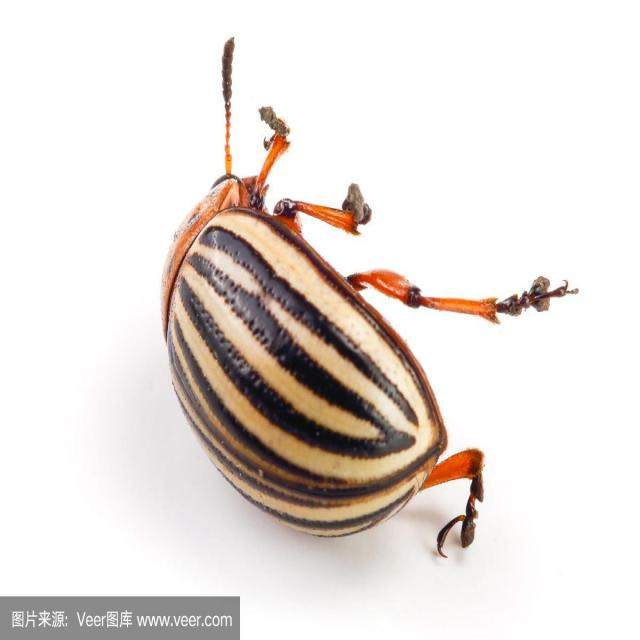ShuCaiHuaBanChong-Grown-: (122, 137, 516, 548)
